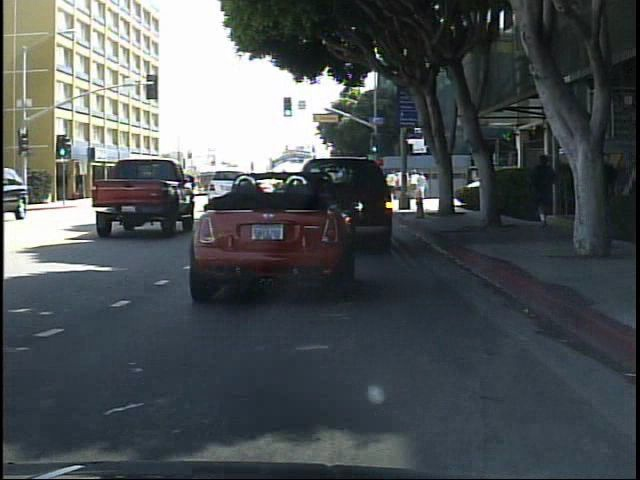person: (577, 137, 620, 256), (524, 149, 560, 230), (146, 172, 165, 202)
